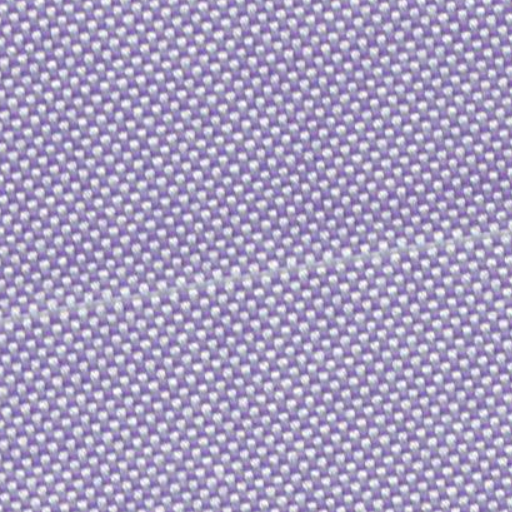TuoSha: (13, 206, 496, 338)
